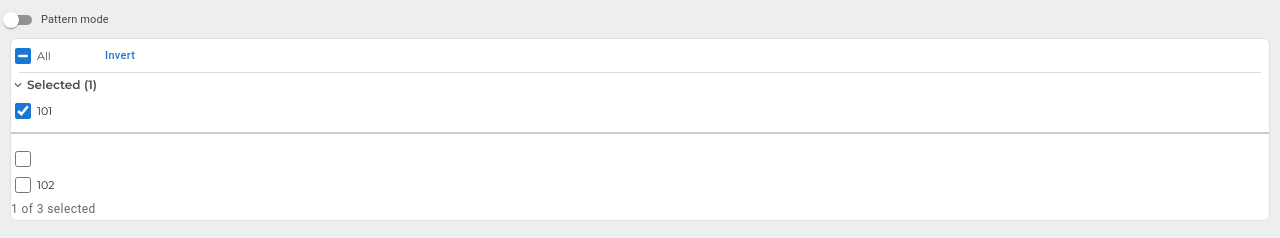
DiscreteFilterControl › select all with numeric selection keeps an empty-string value matchable
Step 1. Click the checkbox named "Select all" → [23, 56], box [15, 48, 31, 64]
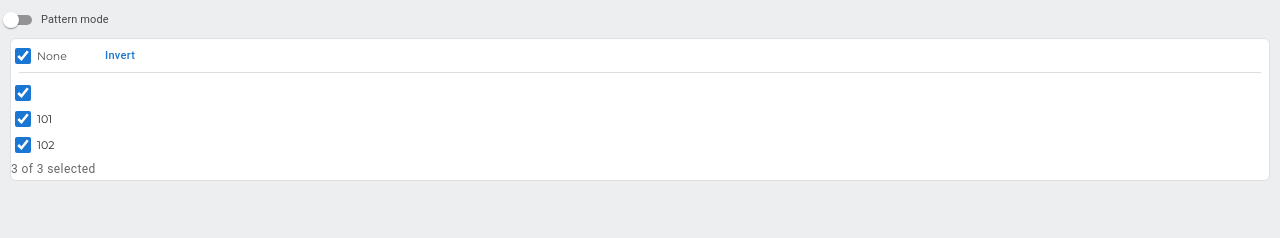
Result: the checkbox named "Select none" is checked
Result: the checkbox labelled "None" is checked
Result: the text "3 of 3 selected" is shown at [11, 162, 96, 176]
Step 2. Click the checkbox labelled "None" → [23, 56], box [15, 48, 31, 64]
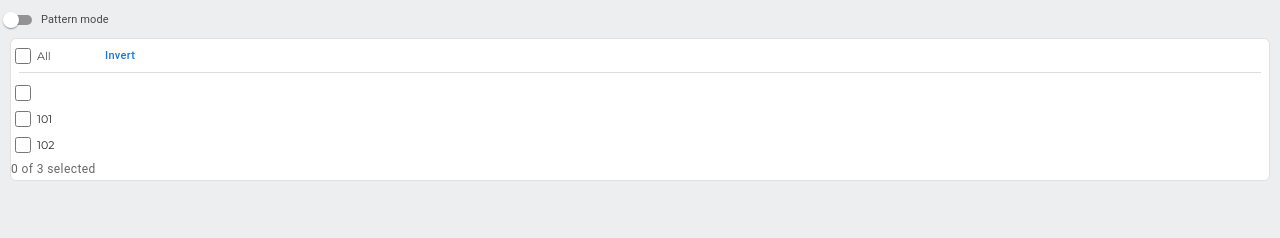
Result: the text "0 of 3 selected" is shown at [11, 162, 96, 176]
